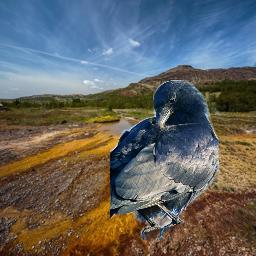Crow: (110, 80, 219, 240)
